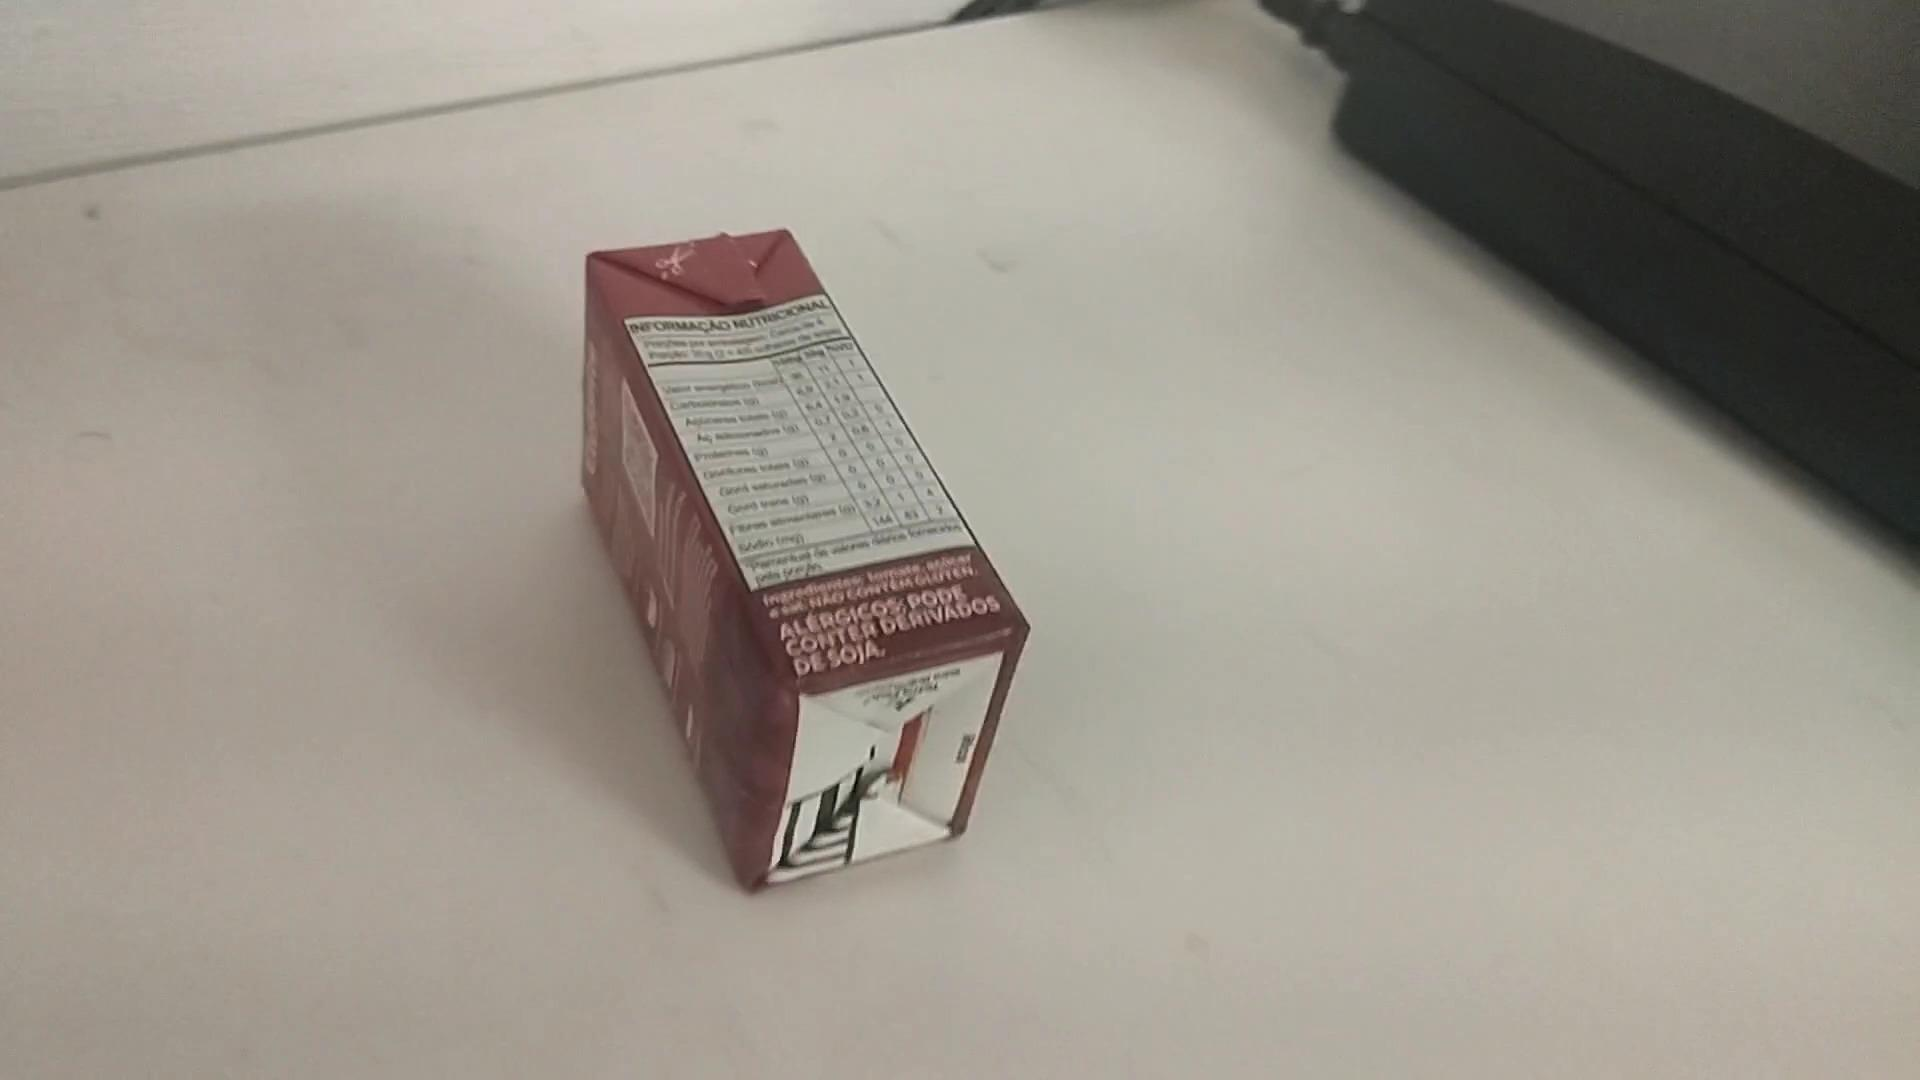tomate: (575, 220, 1046, 890)
